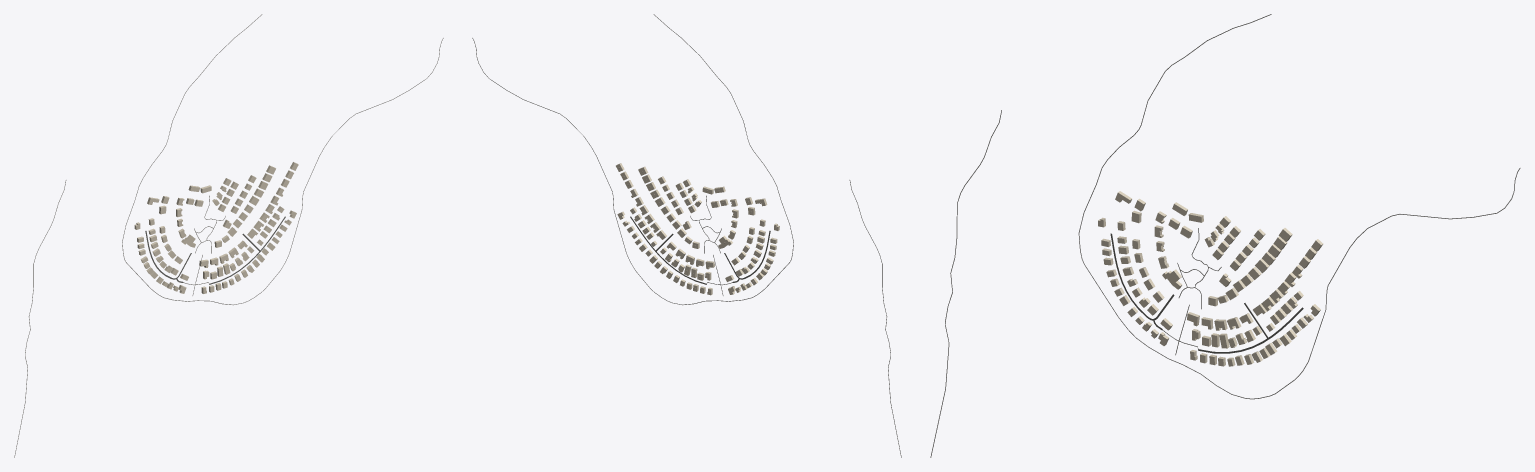
The model's file is historic-palestine-09_27_3510_3216.glb.
The picture shows the model from 3 angles, left to right: view 1: azimuth 30°, elevation 25°; view 2: azimuth 150°, elevation 25°; view 3: azimuth 330°, elevation 25°; orthographic projection. The views are drawn at different scales.
Visible parts, largest first — view 1: Road; view 2: Road; view 3: Road.
Boxes of the visible parts, x1,y1,x2,y2 form: Road: (122, 14, 443, 305); Road: (472, 14, 793, 305); Road: (1078, 14, 1520, 399).
Bounding box in the file's own units: 1160 × 990 × 8.7.
